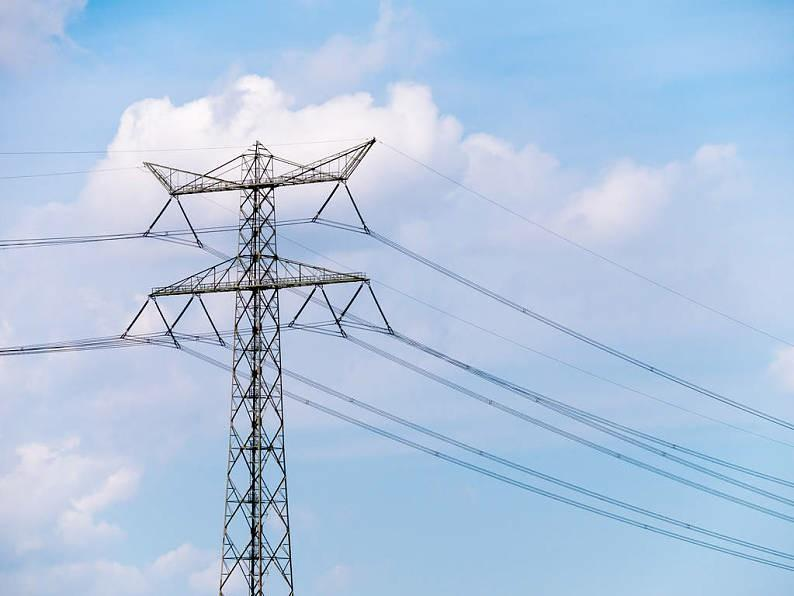power_tower: (117, 135, 390, 596)
